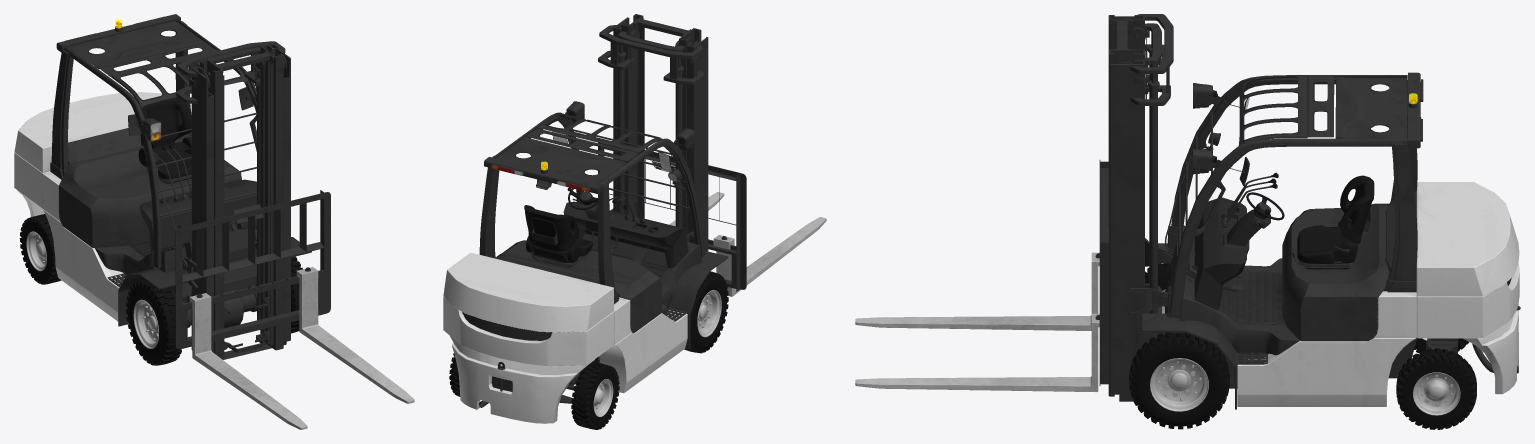
Rendered from Forklift.glb.
3 views of the same model, side by side, from view 1: azimuth 30°, elevation 25°; view 2: azimuth 150°, elevation 25°; view 3: azimuth 270°, elevation 25° (orthographic). The views are drawn at different scales.
Visible parts, largest first — view 1: Lift_body, Lift_mast_2, Lift_mast_1, Lift_tire_F, Lift_mast_1B, Lift_mast_1A, Lift_tire_RR, Lift_code; view 2: Lift_body, Lift_mast_2, Lift_tire_RR, Lift_mast_1, Lift_tire_F, Lift_mast_1A; view 3: Lift_body, Lift_tire_F, Lift_tire_RL, Lift_mast_1B, Lift_mast_1A, Lift_mast_2, Lift_mast_1.
Part boxes in pixels (x1,y1,x2,y2): Lift_body: (14,14,311,359); Lift_mast_2: (196,44,283,359); Lift_mast_1: (175,190,330,349); Lift_tire_F: (126,256,302,365); Lift_mast_1B: (296,267,414,403); Lift_mast_1A: (189,293,307,429); Lift_tire_RR: (19,214,61,284); Lift_code: (255,61,264,318); Lift_body: (443,17,728,423); Lift_mast_2: (618,14,701,234); Lift_tire_RR: (571,362,619,429); Lift_mast_1: (598,142,746,291); Lift_tire_F: (684,271,728,353); Lift_mast_1A: (713,217,826,296); Lift_body: (1110,14,1520,409); Lift_tire_F: (1129,263,1229,429); Lift_tire_RL: (1396,348,1476,429); Lift_mast_1B: (855,313,1099,392); Lift_mast_1A: (855,252,1099,330); Lift_mast_2: (1108,15,1161,396); Lift_mast_1: (1099,160,1108,385).
Size of what is drawn, in the model's own units: 1.49 by 2.79 by 4.74.
6 materials, 3 textured.
